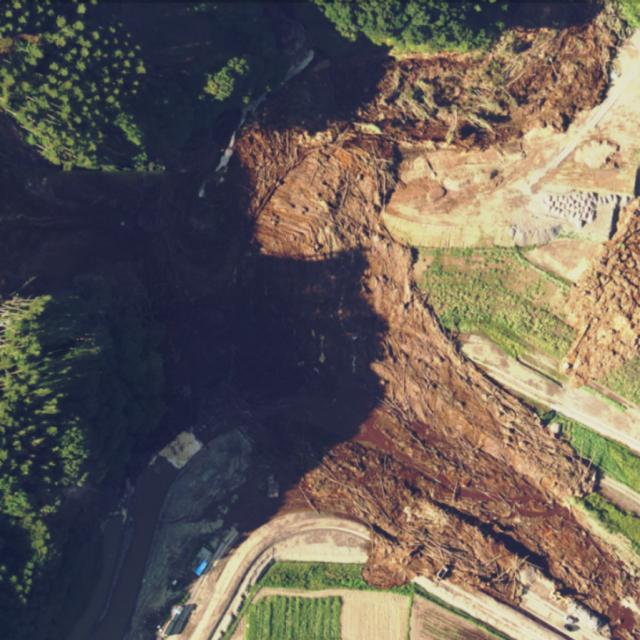landslide: (235, 31, 640, 631)
